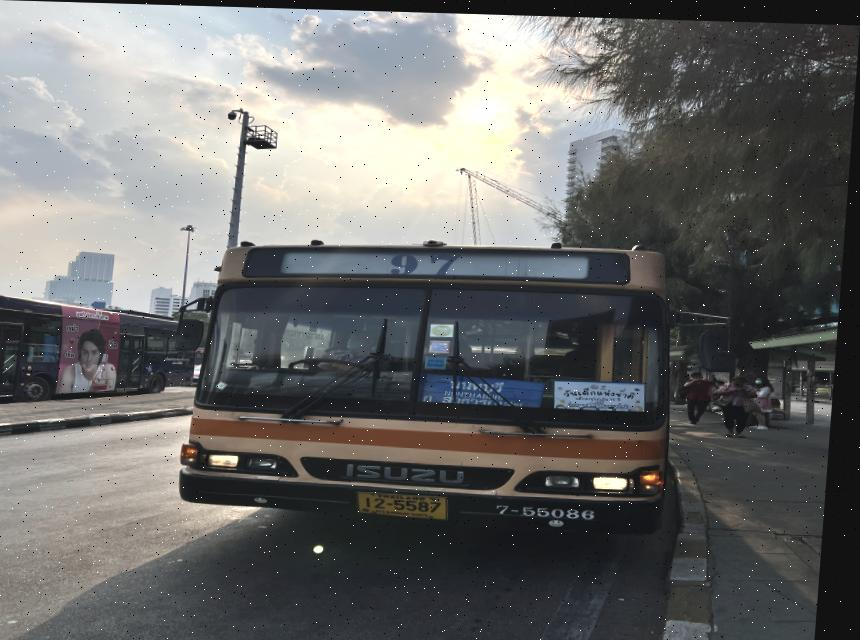BMTA-bus: (185, 241, 683, 531)
Bus Line Number: (382, 247, 473, 277)
Bus Side Number: (497, 498, 611, 521)
Destination Sign: (424, 372, 550, 405)
TSB-Bus: (0, 296, 192, 401)
